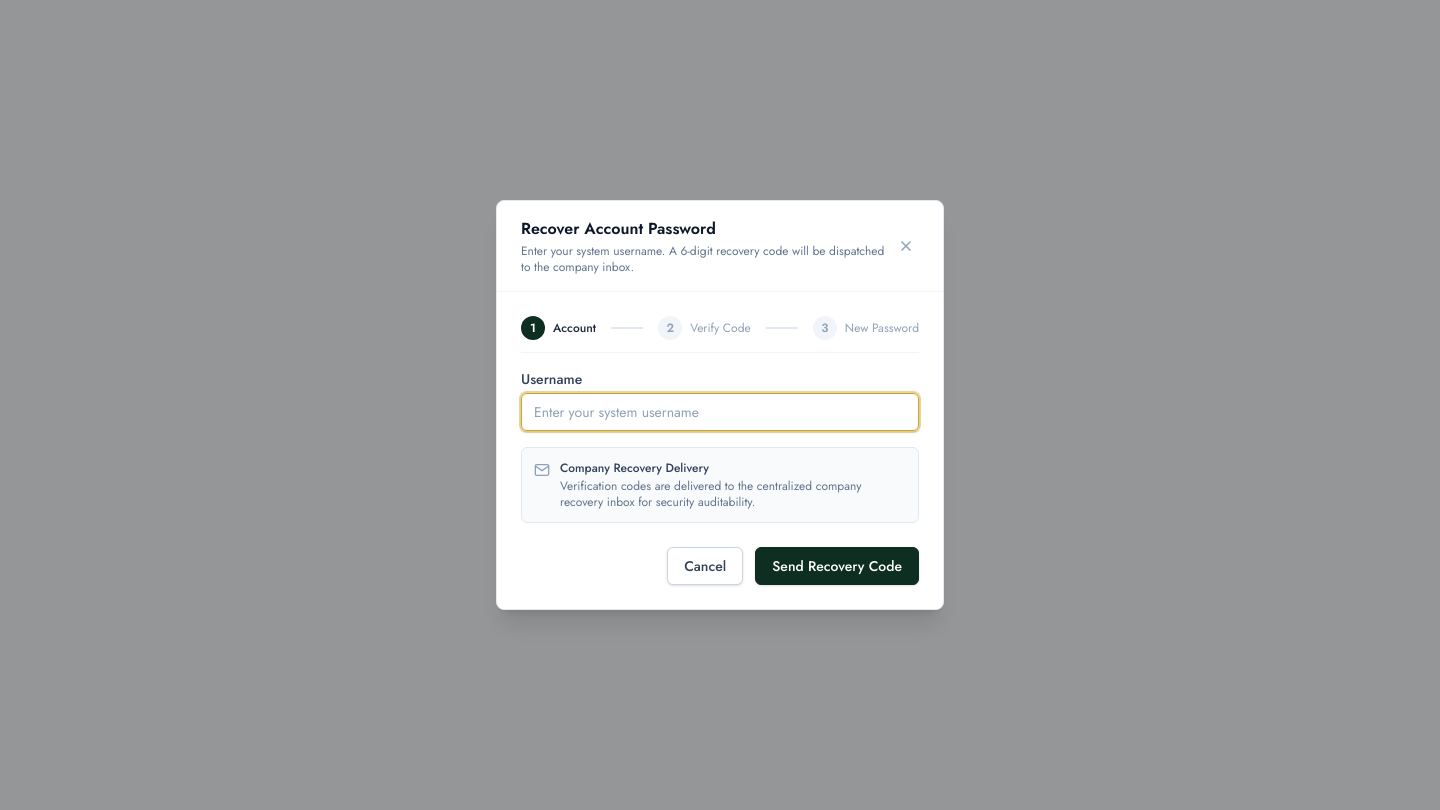
Scenario: ForgotPasswordModal › handles Step 1 API failure cleanly
Type "finance_user" into the field labelled "Username" at {"x": 720, "y": 412}, box x1=521 y1=393 x2=919 y2=431
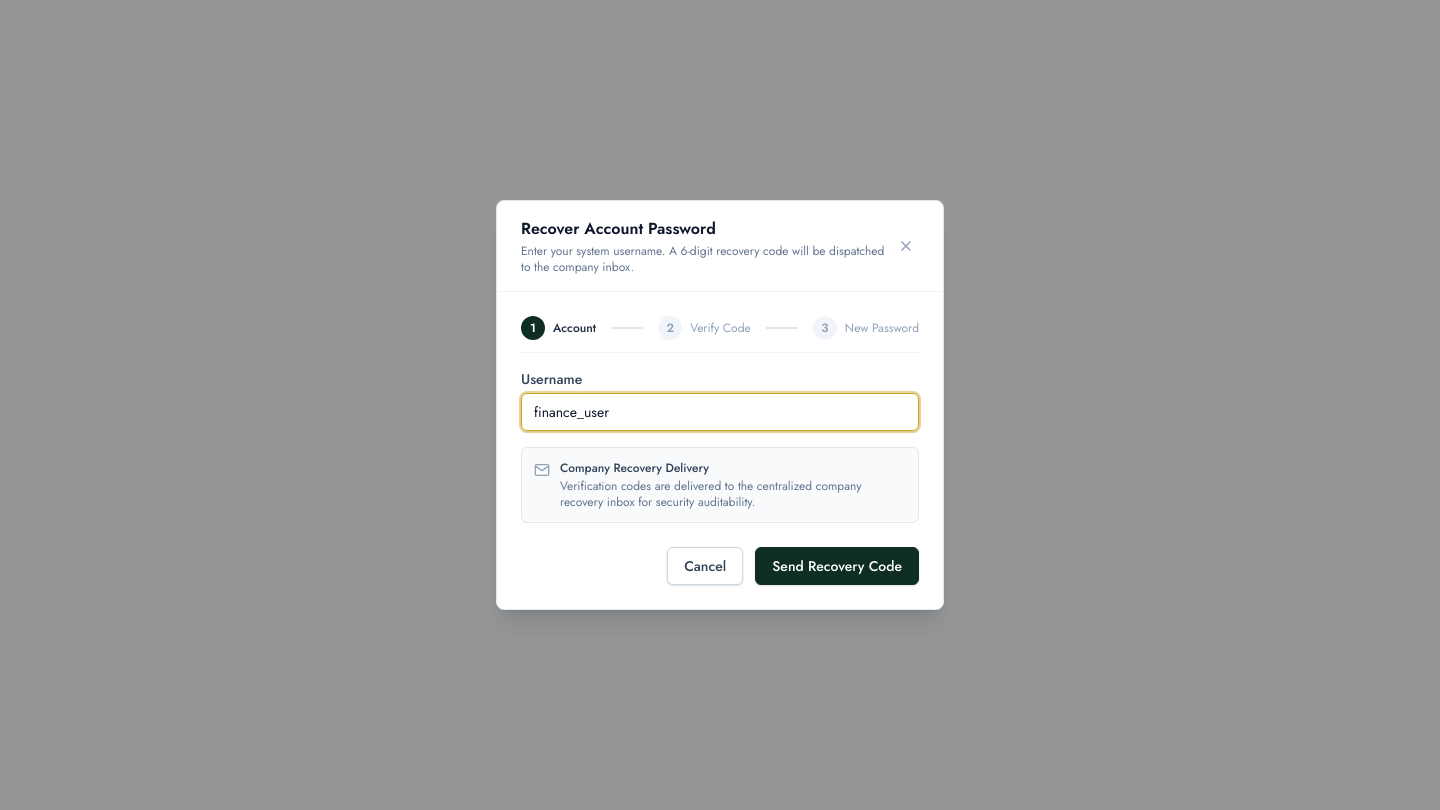
Click the button "Send Recovery Code" at {"x": 837, "y": 566}, box x1=755 y1=547 x2=919 y2=585
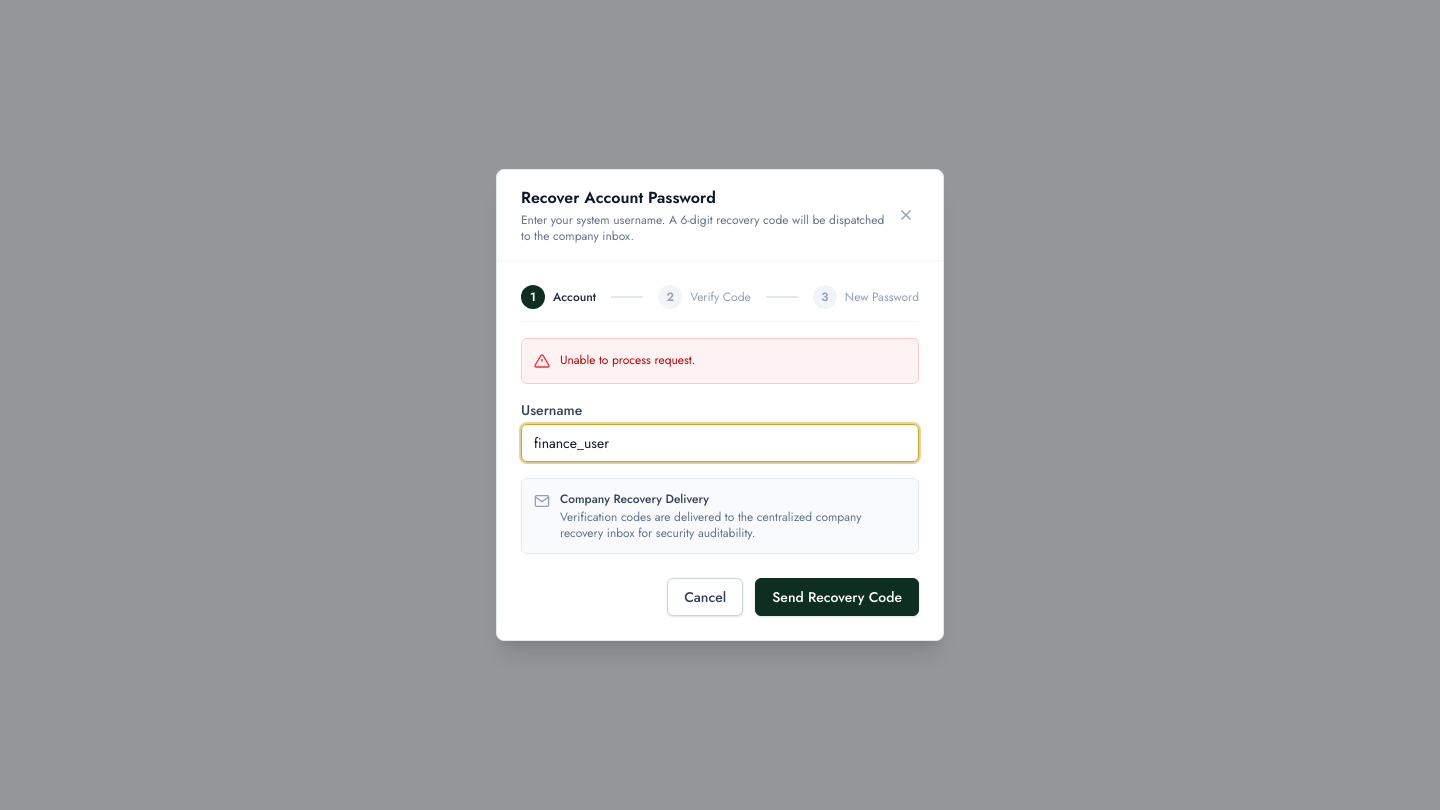
Check: the text "Unable to process request." is shown, box x1=560 y1=351 x2=695 y2=369
